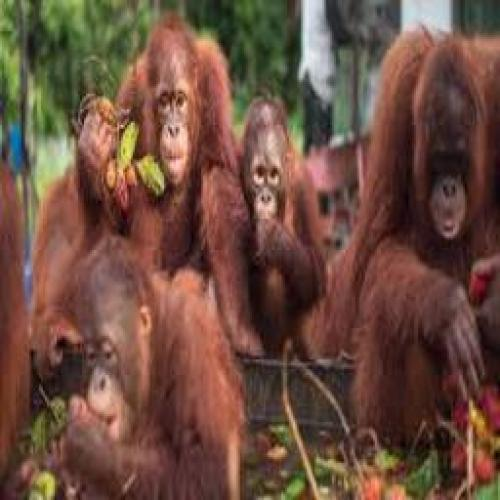orangutan-endangered: (342, 23, 500, 450), (45, 240, 244, 500), (77, 13, 245, 295), (232, 91, 333, 352)
